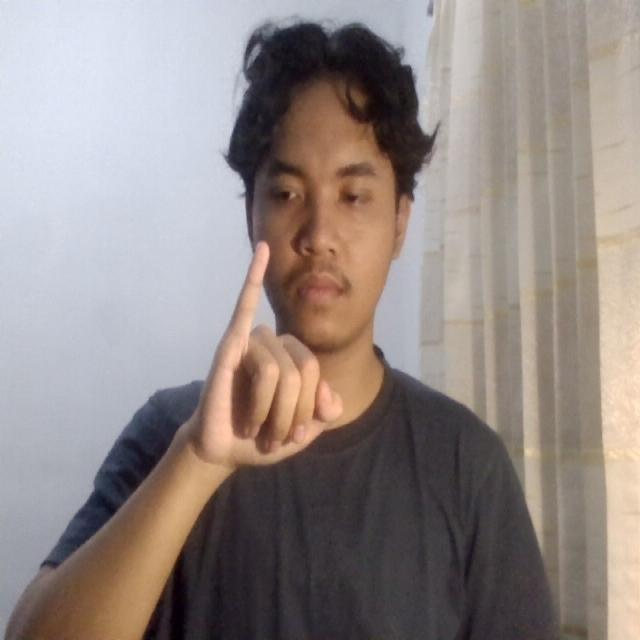Hello: (164, 228, 380, 492)
